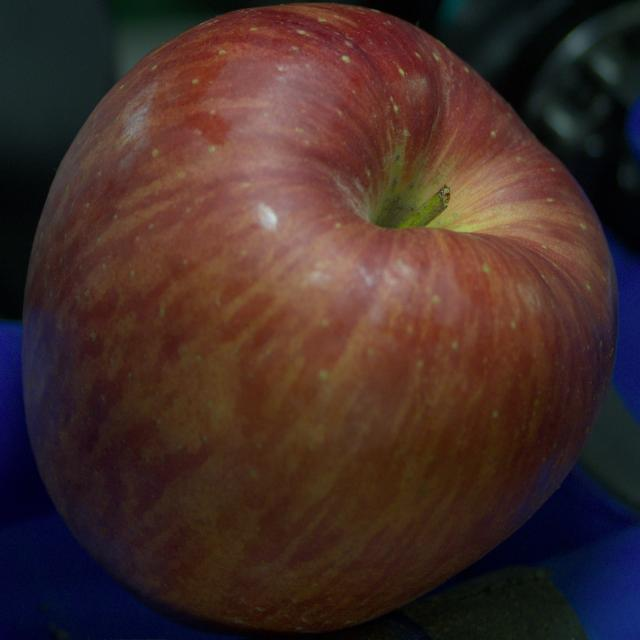apple: (22, 4, 618, 632)
